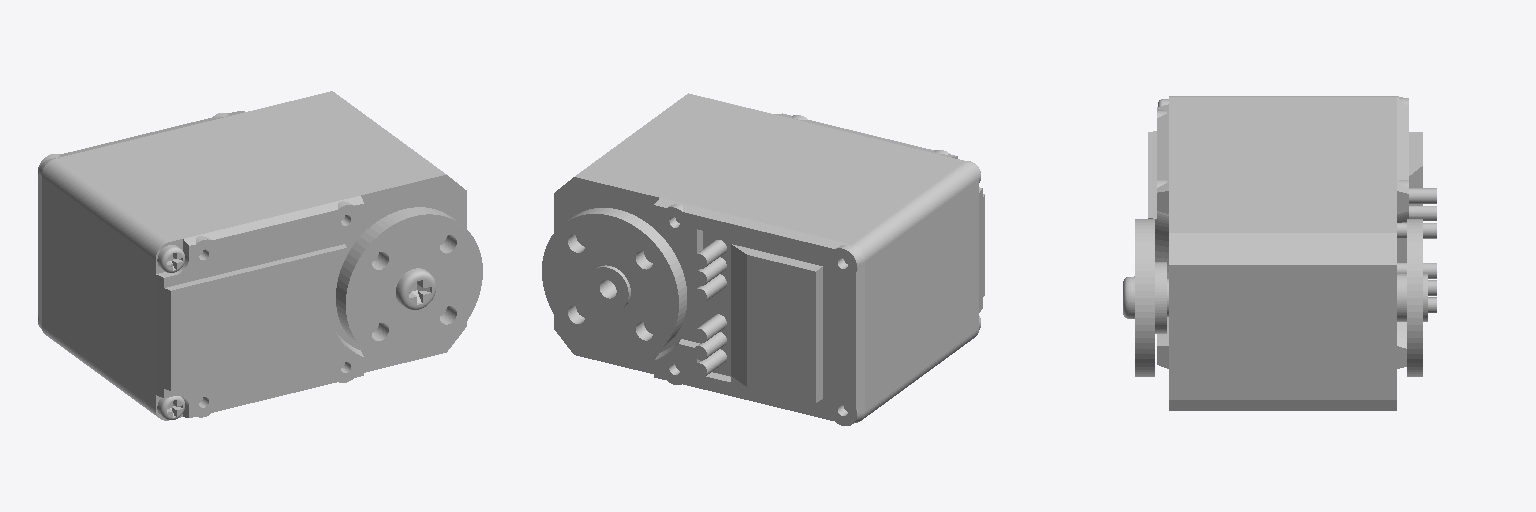
The model's file is so101_new_calib_gripper_collisions_sts3215_03a_v1_mesh.obj.
The picture shows the model from 3 angles: view 1: azimuth 30°, elevation 25°; view 2: azimuth 150°, elevation 25°; view 3: azimuth 270°, elevation 25°; orthographic projection.
Bounding box in the file's own units: 0.0454 × 0.0248 × 0.0396.